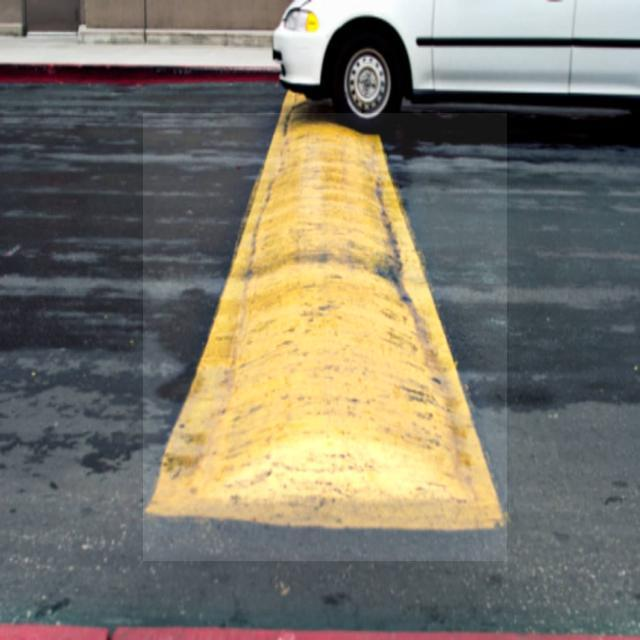speed-bump: (143, 113, 507, 561)
